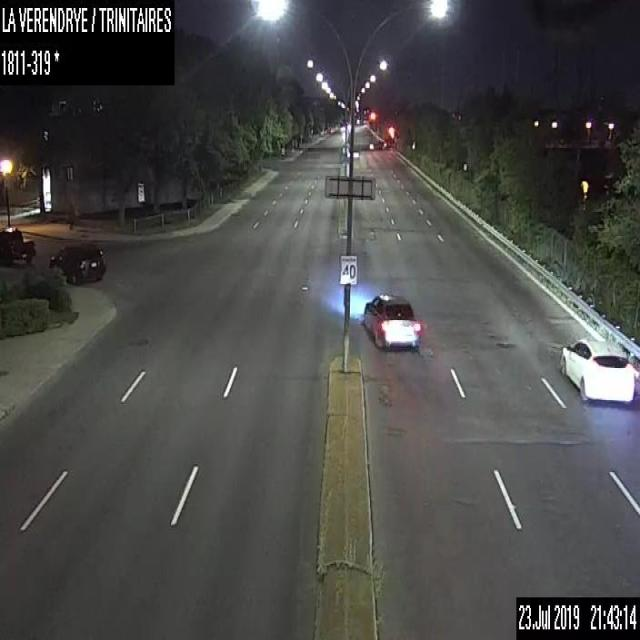pedestrian: (67, 200, 76, 230)
vehicle: (558, 337, 635, 400), (361, 291, 423, 348), (48, 240, 105, 284), (0, 225, 35, 262), (369, 138, 385, 150)
